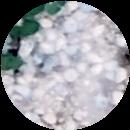Basil: (4, 18, 41, 41), (0, 48, 29, 75), (46, 0, 64, 15)
